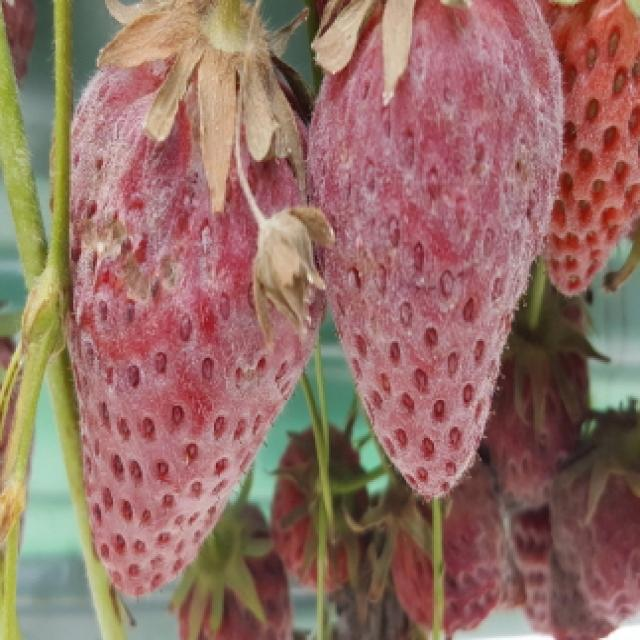Powdery Mildew Fruit: (51, 0, 328, 598), (306, 0, 561, 501), (539, 0, 640, 296)
